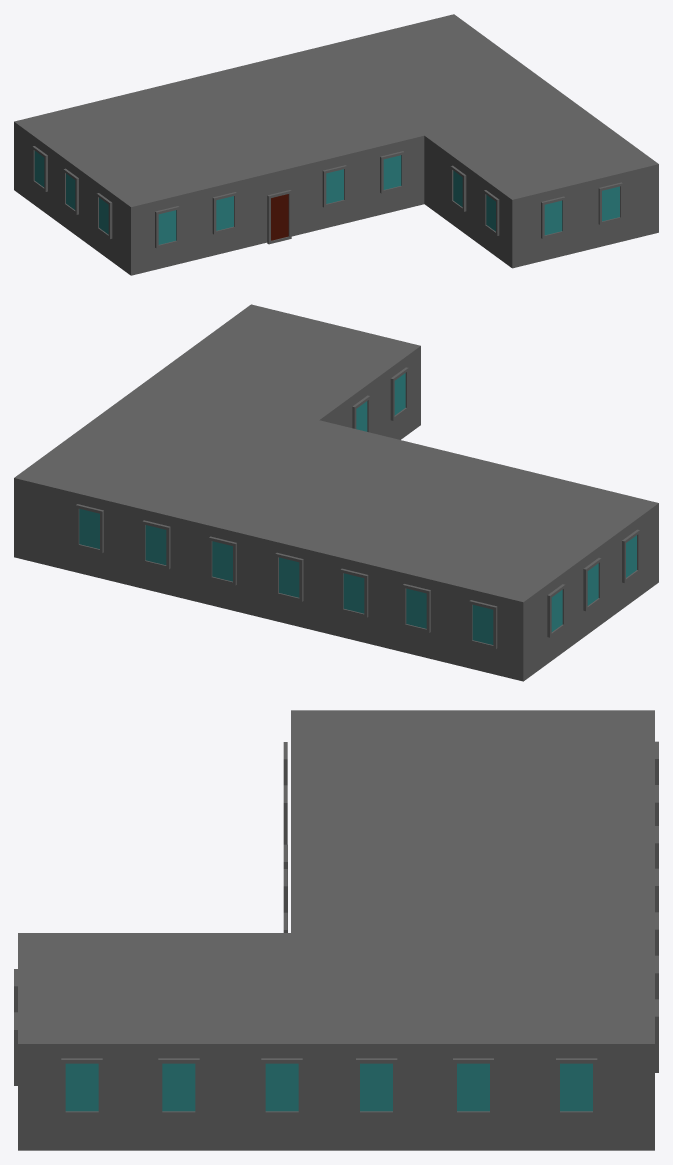
File: bot.obj
3 views of the same model, one above another, from view 1: azimuth 30°, elevation 25°; view 2: azimuth 150°, elevation 25°; view 3: azimuth 270°, elevation 25° (orthographic). The views are drawn at different scales.
Visible parts, largest first — view 1: Cube.003_Cube.025_Cube.003_Cube.044; view 2: Cube.003_Cube.025_Cube.003_Cube.044; view 3: Cube.003_Cube.025_Cube.003_Cube.044.
Boxes of the visible parts, x1,y1,x2,y2 form: Cube.003_Cube.025_Cube.003_Cube.044: (14, 14, 658, 275); Cube.003_Cube.025_Cube.003_Cube.044: (14, 304, 658, 681); Cube.003_Cube.025_Cube.003_Cube.044: (14, 710, 658, 1150).
Bounding box in the file's own units: 23.22 × 3.42 × 18.77.
